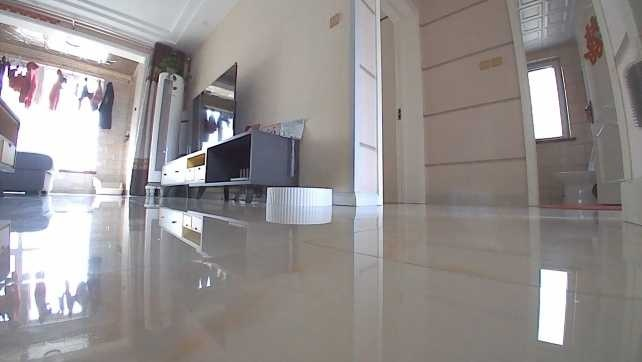TV_stand: (159, 127, 303, 202)
door_anno: (570, 0, 623, 205)
toilet: (557, 145, 600, 205)
